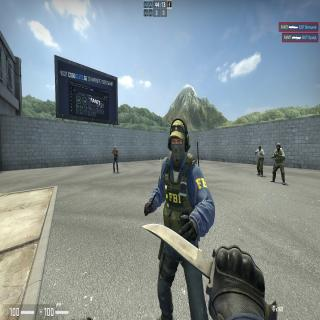CT-Body: (165, 119, 193, 247), (273, 142, 284, 182)
CT-Head: (276, 142, 280, 152)
T-Body: (256, 146, 264, 177), (112, 146, 118, 173)
T-Head: (259, 146, 261, 152), (114, 146, 116, 151)
